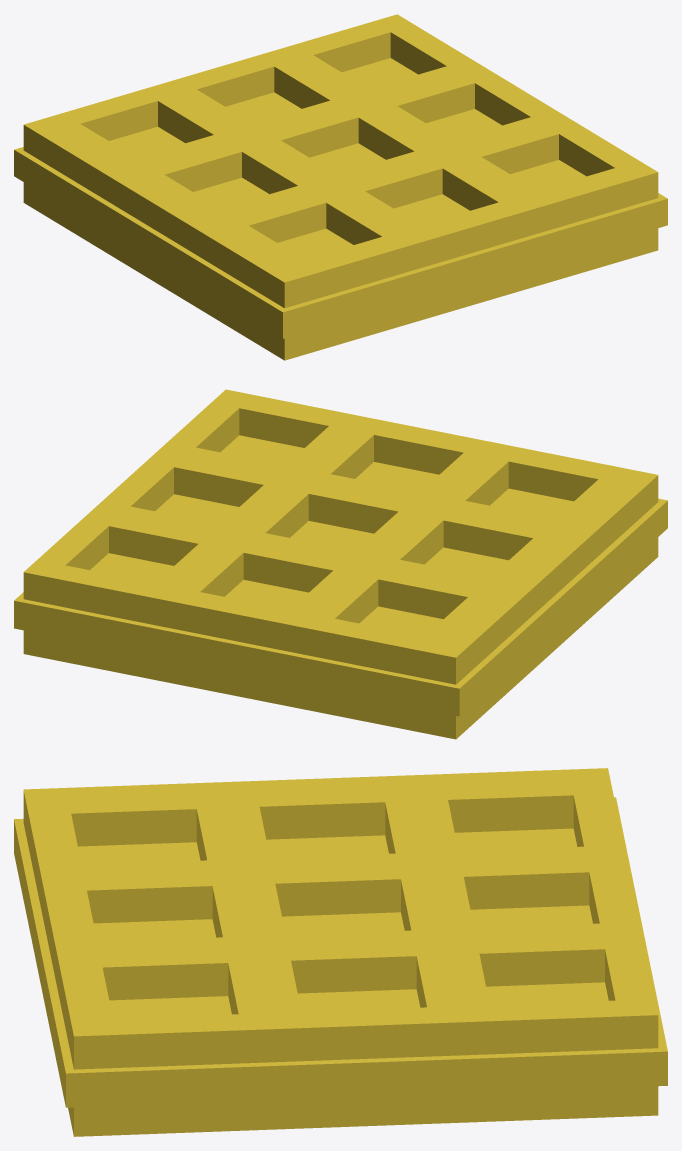
Rendered from 4 waffle.fbx.
3 renders of one model, top to bottom at view 1: azimuth 30°, elevation 25°; view 2: azimuth 150°, elevation 25°; view 3: azimuth 270°, elevation 25°, orthographic. The views are drawn at different scales.
Visible parts, largest first — view 1: 4 waffle; view 2: 4 waffle; view 3: 4 waffle.
Part boxes in pixels (box(x1,y1,x2,y2)): 4 waffle: box(14, 14, 667, 360); 4 waffle: box(14, 389, 667, 739); 4 waffle: box(14, 768, 667, 1136).
Size of the model in its own units: 4.89 by 0.8291 by 4.89.
